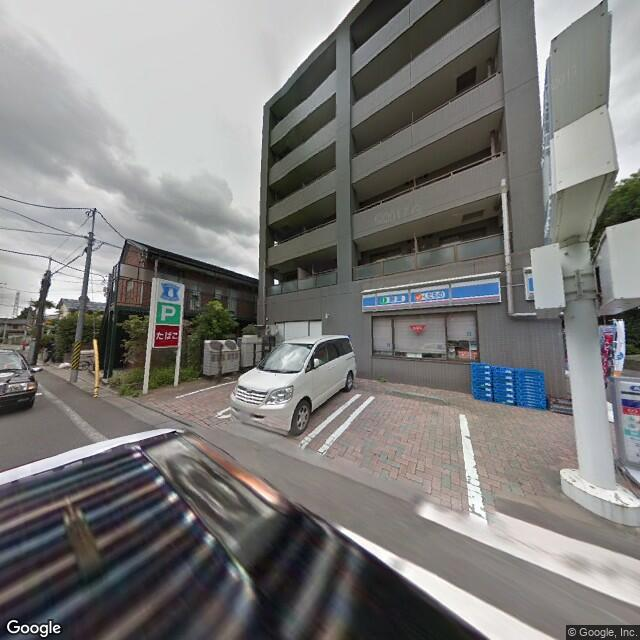lawson: (359, 276, 507, 317), (157, 279, 180, 305)
